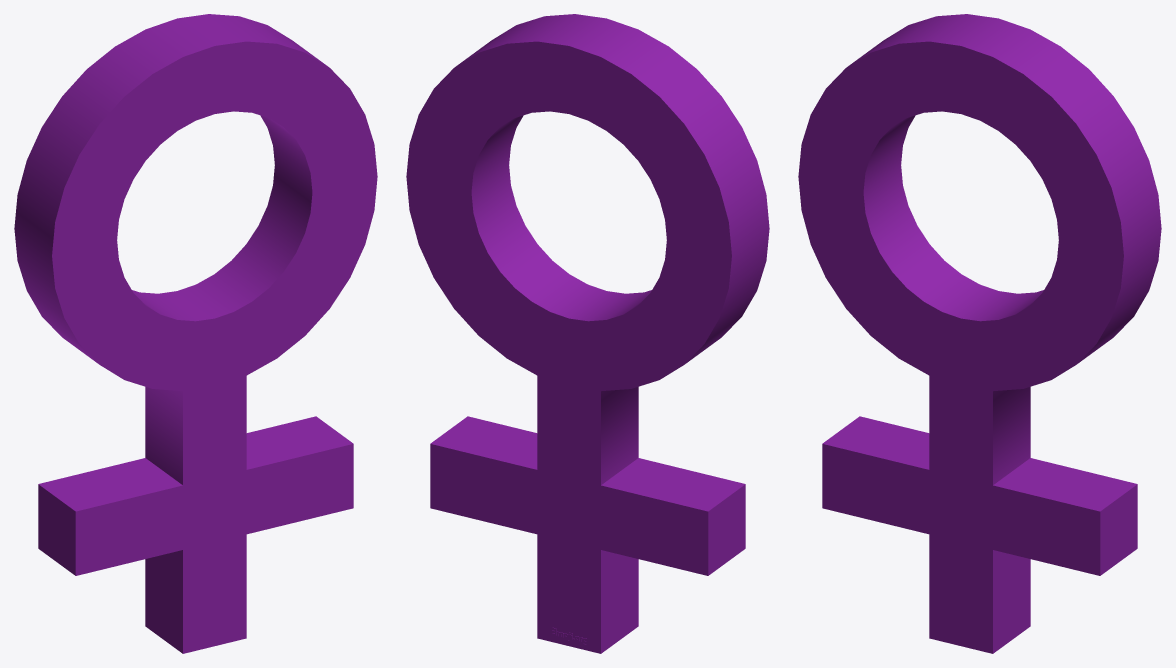
Rendered from female_sign.fbx.
3 renders of one model, left to right at view 1: azimuth 30°, elevation 25°; view 2: azimuth 150°, elevation 25°; view 3: azimuth 330°, elevation 25°, orthographic.
Visible parts, largest first — view 1: Circle.2636; view 2: Circle.2636; view 3: Circle.2636.
Part boxes in pixels (x1,y1,x2,y2): Circle.2636: (14,14,377,653); Circle.2636: (406,14,769,653); Circle.2636: (798,14,1161,653).
Bounding box in the file's own units: 125 × 220 × 25.13.
1 material, 1 textured.
